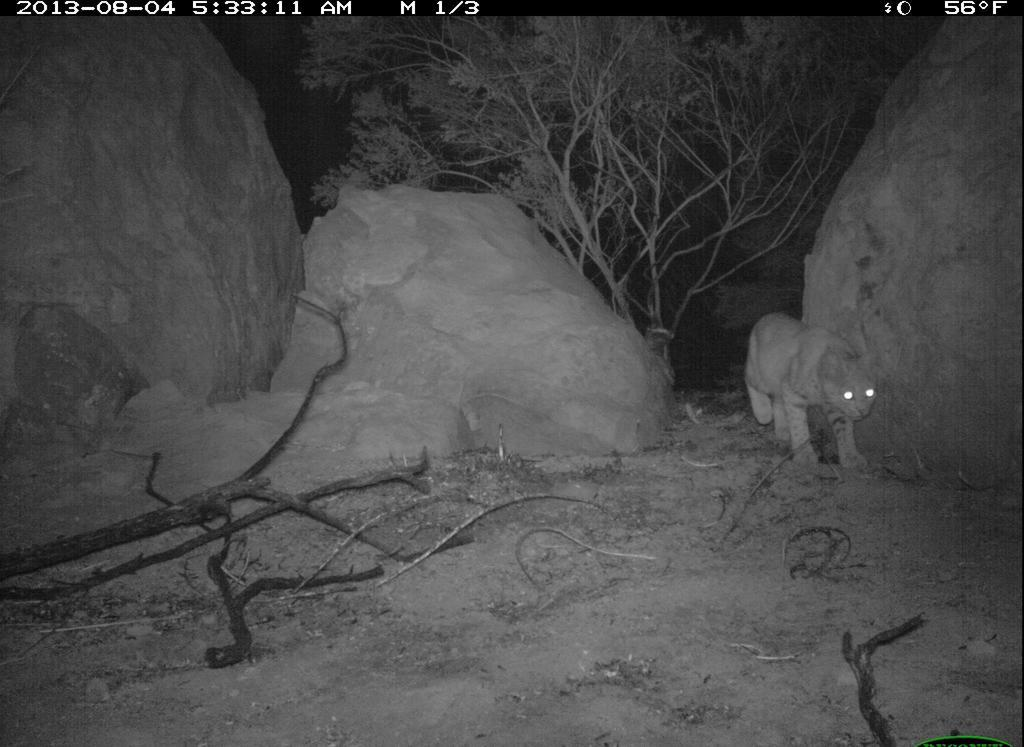bobcat: (738, 301, 888, 497)
